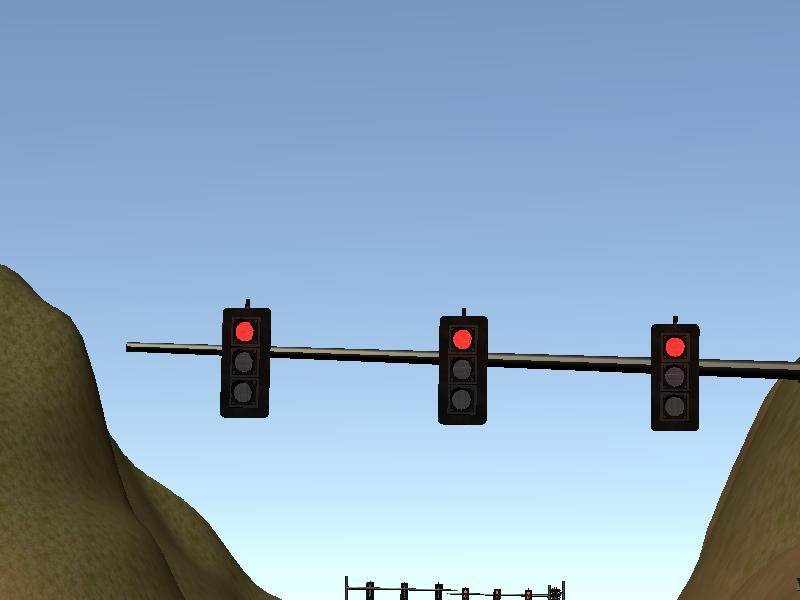Red: (224, 310, 269, 414), (653, 326, 698, 429), (441, 318, 485, 423)
